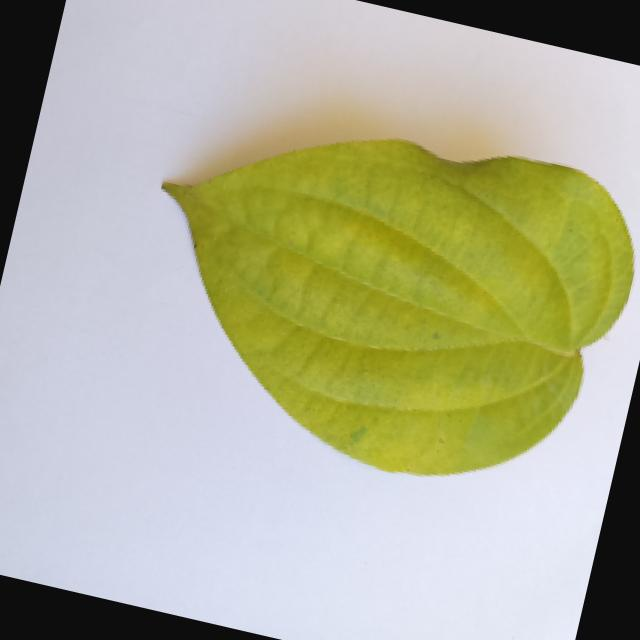slow-decline: (107, 73, 640, 512)
